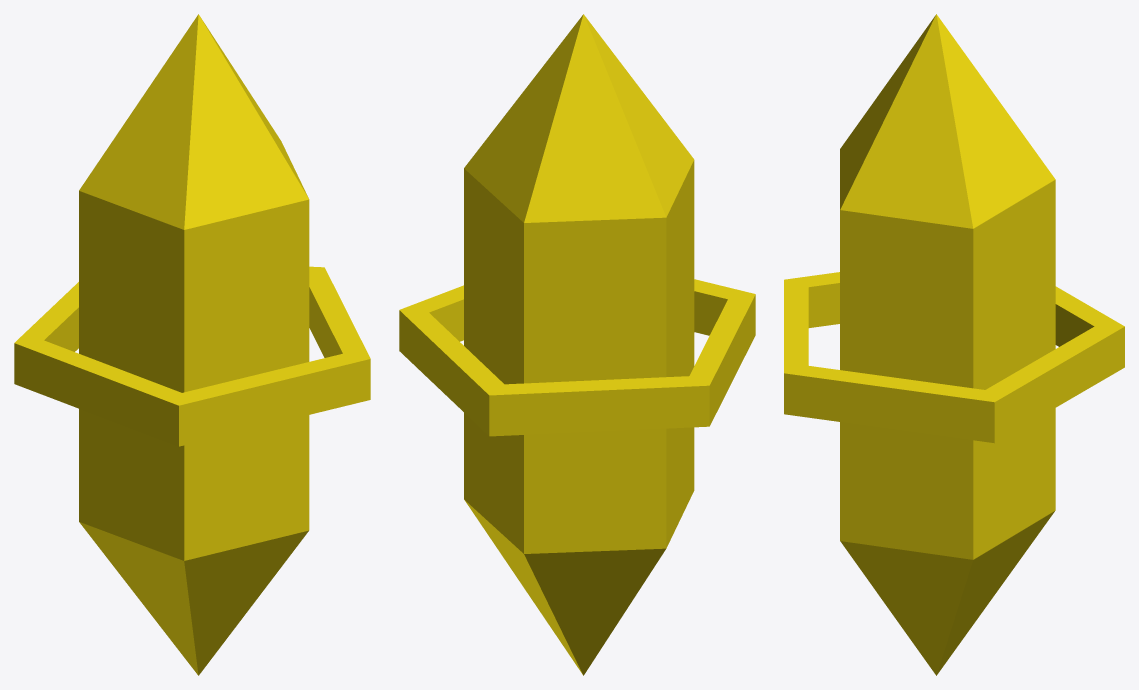
File: Pointy Hotdog.fbx
3 views of the same model, side by side, from view 1: azimuth 30°, elevation 25°; view 2: azimuth 150°, elevation 25°; view 3: azimuth 270°, elevation 25° (orthographic).
Visible parts, largest first — view 1: Sphere, Circle; view 2: Sphere, Circle; view 3: Sphere, Circle.
Boxes of the visible parts, bbox=[...] form: Sphere: bbox=[79, 14, 309, 675]; Circle: bbox=[14, 266, 370, 446]; Sphere: bbox=[464, 14, 694, 675]; Circle: bbox=[399, 279, 755, 436]; Sphere: bbox=[840, 14, 1055, 675]; Circle: bbox=[784, 272, 1124, 443].
Bounding box in the file's own units: 4.72 × 9.61 × 4.48.
